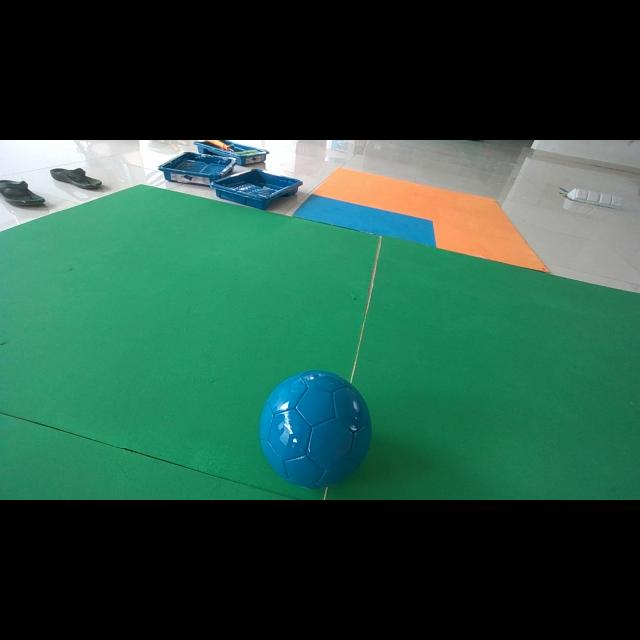B: (259, 370, 371, 489)
